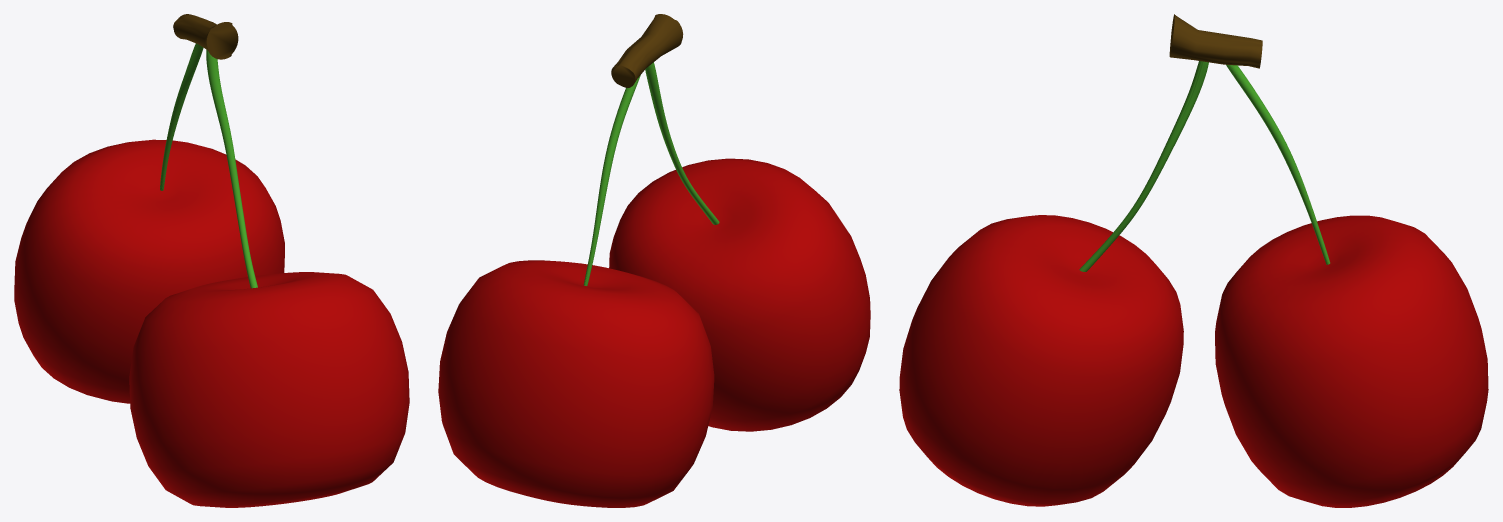
File: cherry.glb
3 renders of one model, left to right at view 1: azimuth 30°, elevation 25°; view 2: azimuth 150°, elevation 25°; view 3: azimuth 270°, elevation 25°, orthographic. The views are drawn at different scales.
Visible parts, largest first — view 1: cherry2, cherry1, cuongcherry2, thanCherry, cuong1; view 2: cherry1, cherry2, thanCherry, cuong1, cuongcherry2; view 3: cherry2, cherry1, thanCherry, cuongcherry2, cuong1.
Boxes of the visible parts, x1,y1,x2,y2 form: cherry2: (129,272,409,507); cherry1: (14,139,284,403); cuongcherry2: (206,49,257,288); thanCherry: (173,14,238,59); cuong1: (160,43,203,190); cherry1: (438,260,714,507); cherry2: (609,158,870,431); thanCherry: (611,14,683,87); cuong1: (583,75,640,285); cuongcherry2: (645,62,719,224); cherry2: (899,215,1183,506); cherry1: (1215,215,1488,507); thanCherry: (1169,14,1262,68); cuongcherry2: (1079,61,1208,271); cuong1: (1226,64,1330,264).
Bounding box in the file's own units: 0.7033 × 1.11 × 1.25.
